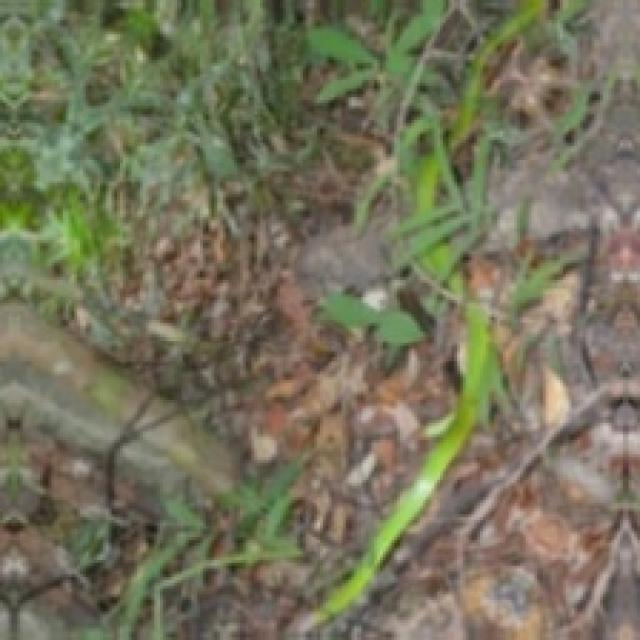red-tailed green ratsnake: (316, 302, 499, 623)
